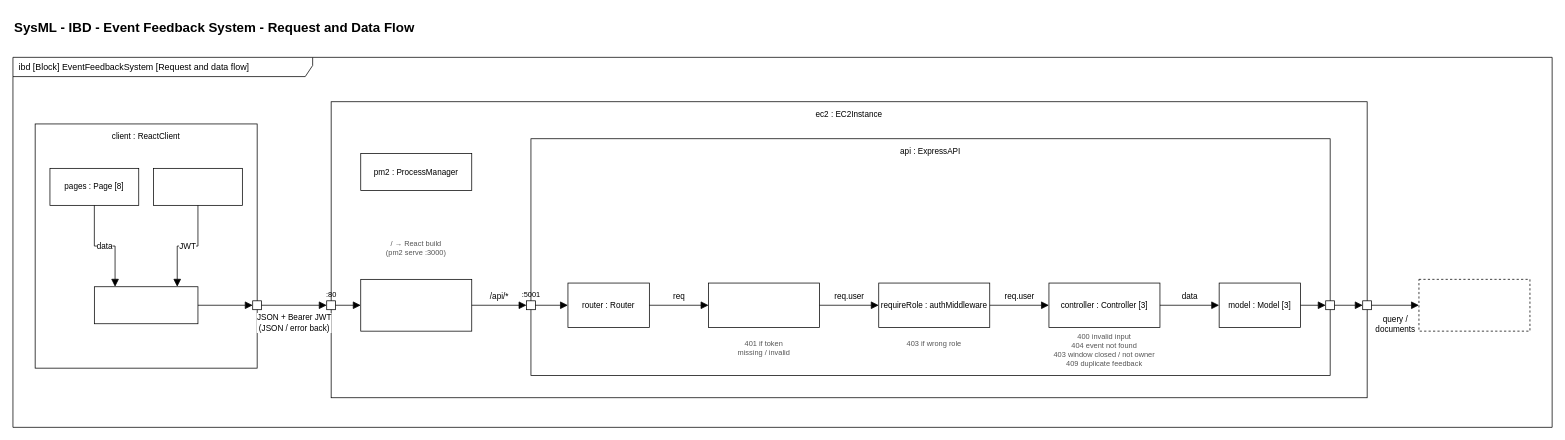
Some shapes in this 1565 by 440 pixel diagram are drawn without their labels. The centre of each missing label's shape, as x and y in pixels:
"api : axiosConfig" belongs at [146,305].
"authContext : AuthContext" belongs at [197,186].
"db : MongoDB Atlas" belongs at [1474,305].
"http" belongs at [257,305].
"nginx : ReverseProxy" belongs at [416,305].
"protect : authMiddleware" belongs at [764,304].
